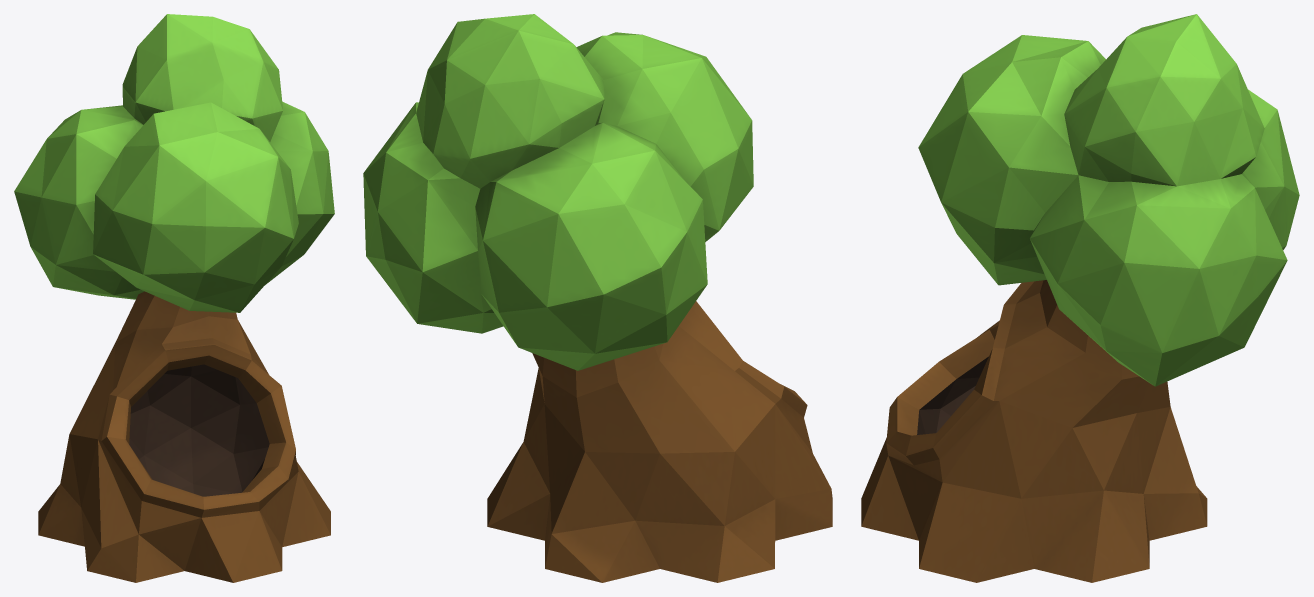
File: NiveauPrairie_Ouvert.FBX
3 views of the same model, side by side, from view 1: azimuth 30°, elevation 25°; view 2: azimuth 150°, elevation 25°; view 3: azimuth 270°, elevation 25° (orthographic). The views are drawn at different scales.
Parts seen in each view (by area): view 1: NiveauPrairie_Ouvert; view 2: NiveauPrairie_Ouvert; view 3: NiveauPrairie_Ouvert.
Part boxes in pixels (<box>): NiveauPrairie_Ouvert: <box>14,14,334,582</box>; NiveauPrairie_Ouvert: <box>363,14,832,582</box>; NiveauPrairie_Ouvert: <box>861,14,1299,582</box>.
Size of the model in its own units: 3.18 by 4.38 by 3.29.
